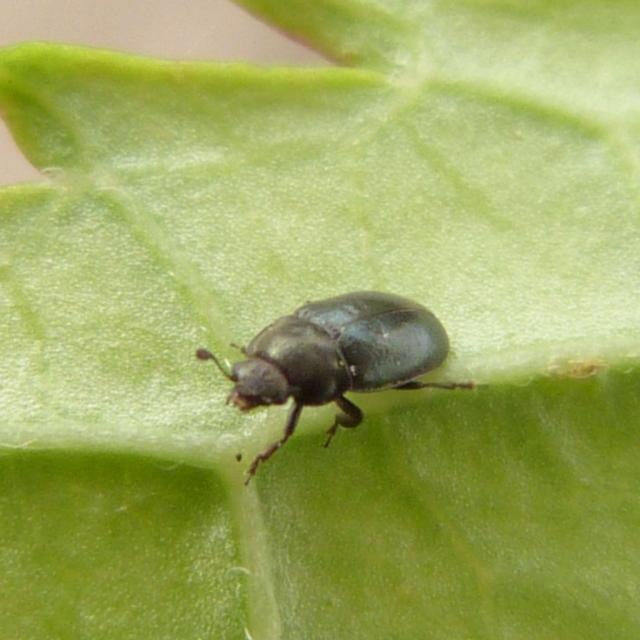pollen_beetle: (187, 271, 482, 481)
